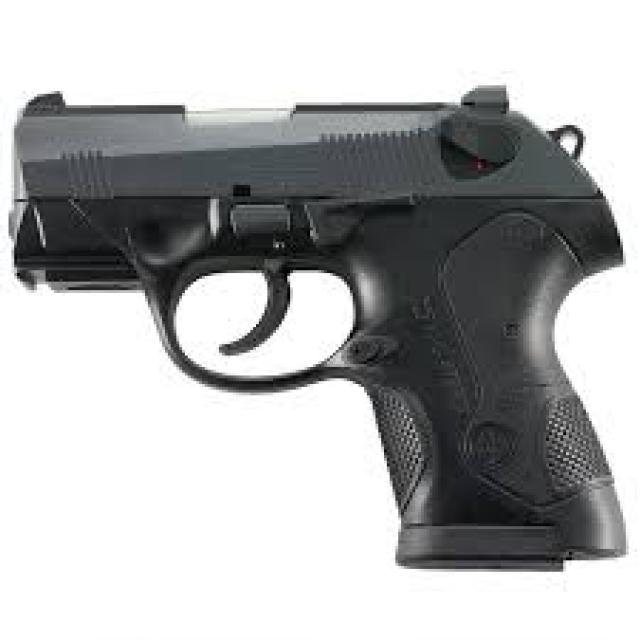pistol: (1, 67, 634, 580)
